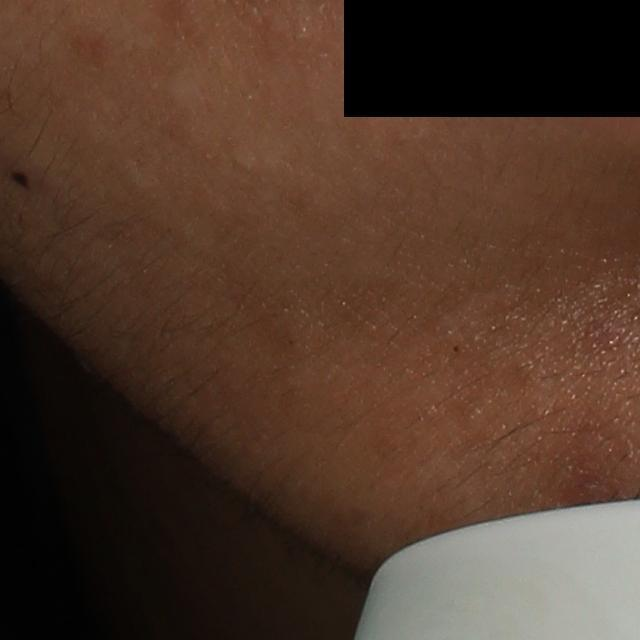nevus: (8, 168, 32, 195)
